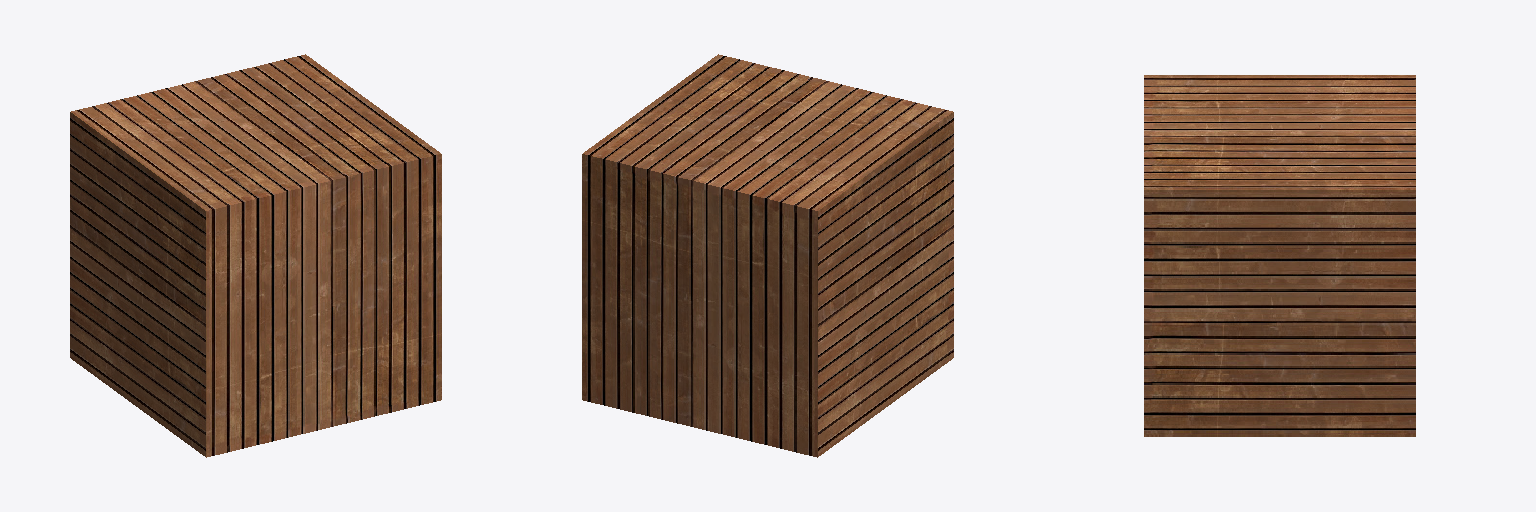
3 views of the same model, side by side, from view 1: azimuth 30°, elevation 25°; view 2: azimuth 150°, elevation 25°; view 3: azimuth 270°, elevation 25° (orthographic).
Visible parts, largest first — view 1: Plane.001, Plane.005, Plane.002; view 2: Plane, Plane.005, Plane.002; view 3: Plane.004, Plane.002.
Part boxes in pixels (bbox=[...]): Plane.001: bbox=[206, 154, 441, 457]; Plane.005: bbox=[70, 112, 205, 456]; Plane.002: bbox=[71, 54, 440, 210]; Plane: bbox=[582, 154, 817, 457]; Plane.005: bbox=[818, 112, 953, 456]; Plane.002: bbox=[583, 54, 952, 210]; Plane.004: bbox=[1144, 190, 1415, 436]; Plane.002: bbox=[1144, 75, 1415, 189].
Bounding box in the file's own units: 2 × 2 × 2.
Materials: 1 (1 with a texture image).